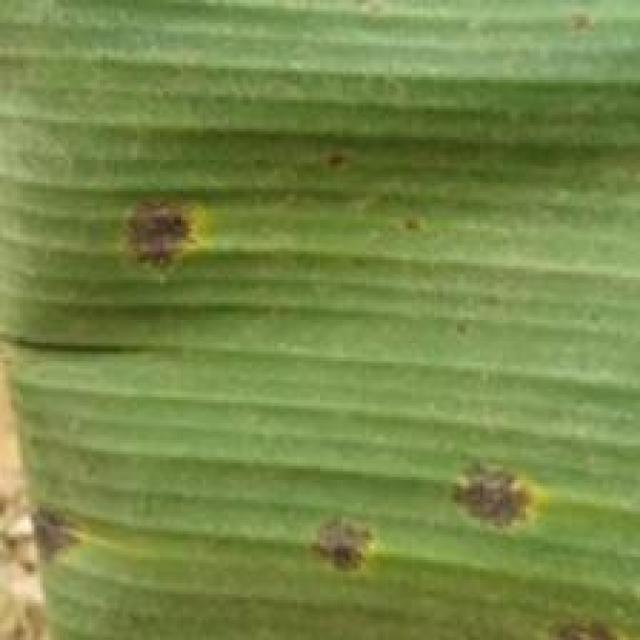Downey_mildrew: (84, 170, 232, 311), (436, 434, 549, 546), (306, 498, 402, 586), (28, 486, 106, 591), (509, 583, 637, 640)
